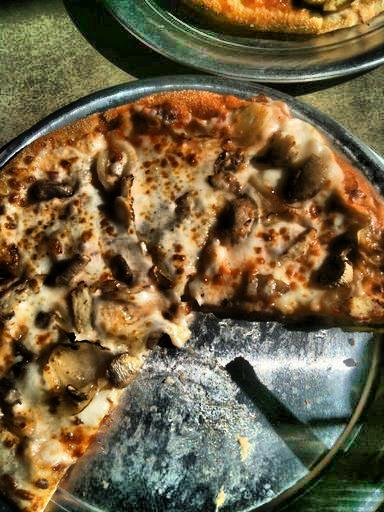pizza: (4, 101, 376, 512)
